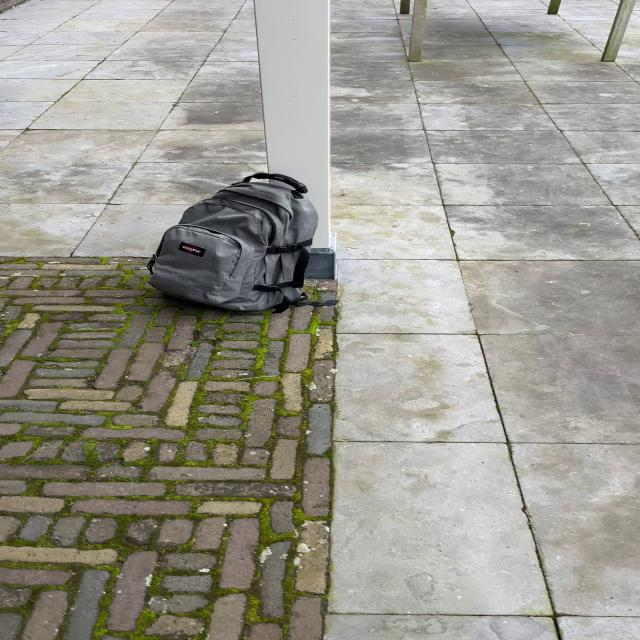backpack: (140, 168, 328, 320)
